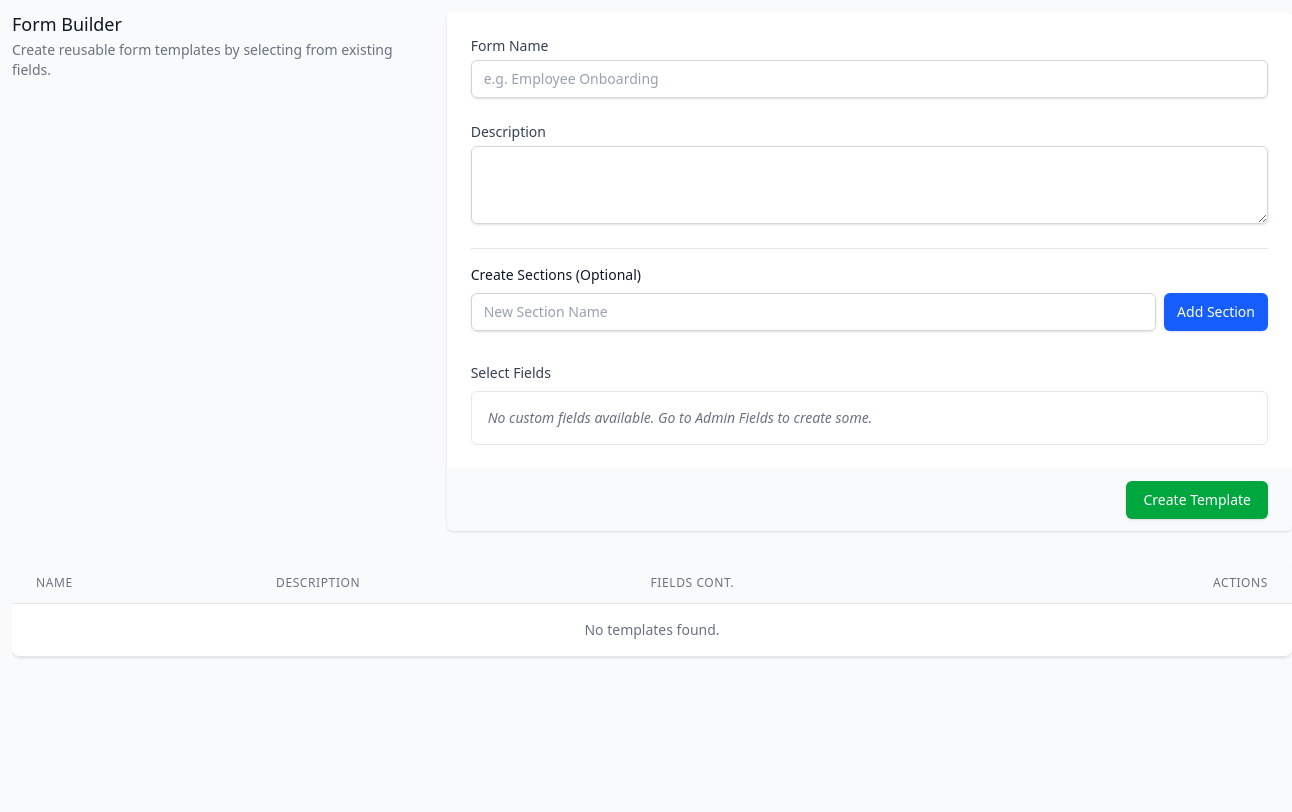
Test: FormBuilder.vue › adds a draft section when "Add Section" is clicked
# Type section name
In the field with placeholder "New Section Name": (813, 312) [471, 293, 1156, 331], type "Personal Info"
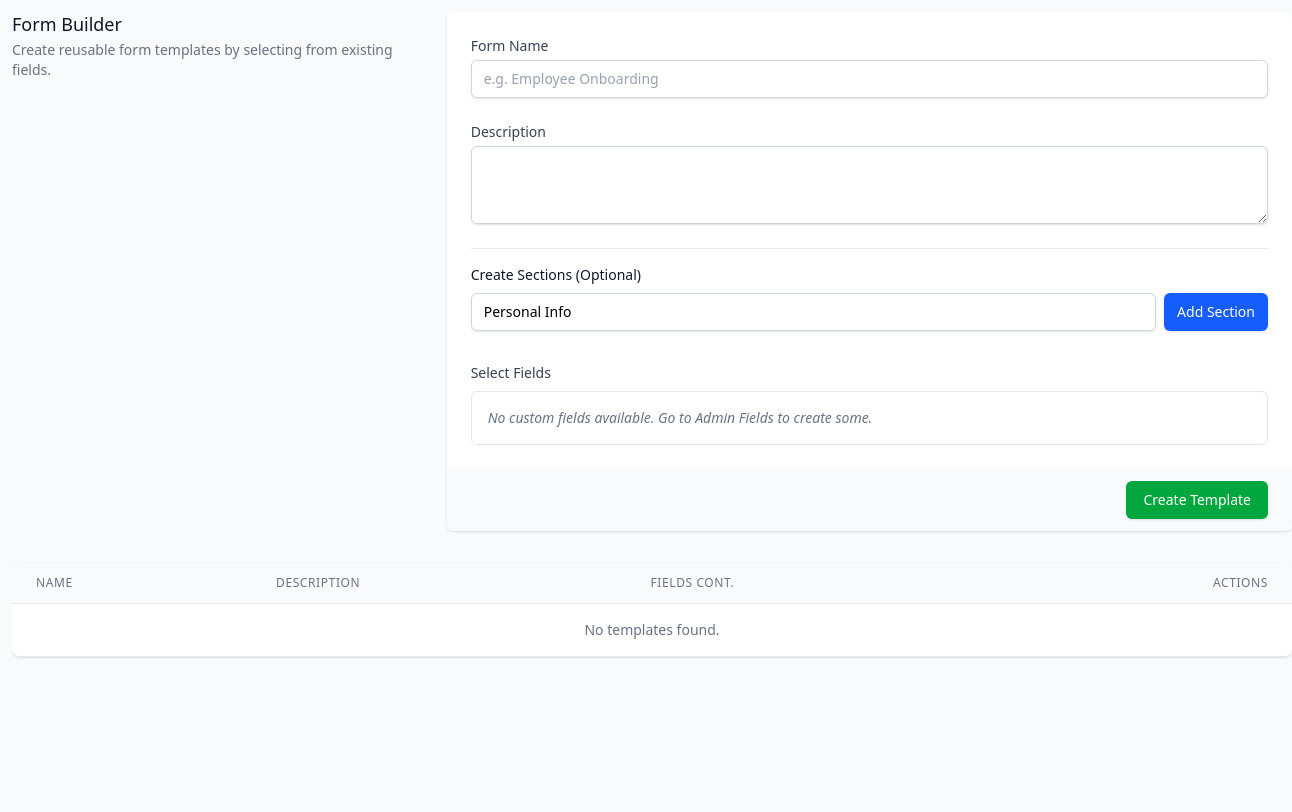
# Click Add
Click the button "Add Section": (1216, 312) [1164, 293, 1268, 331]
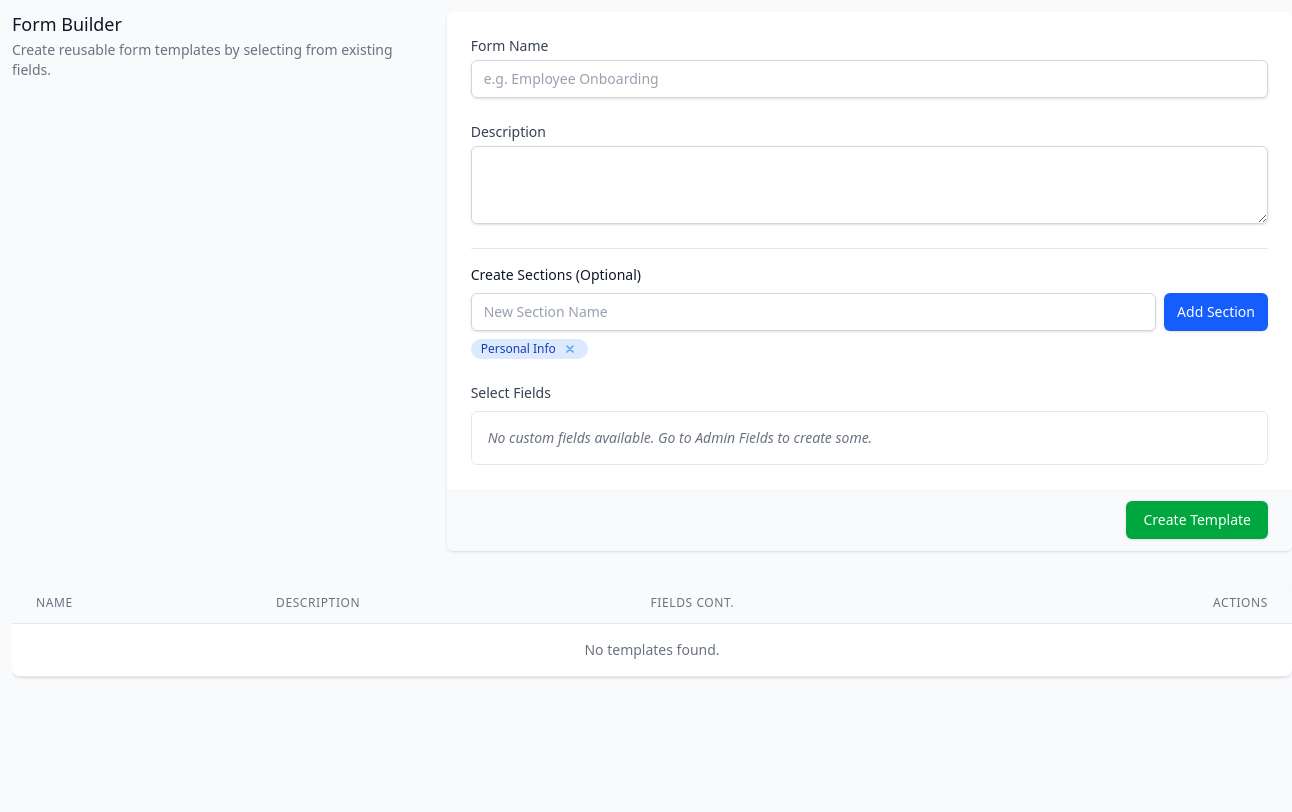
Result: the text "Personal Info" is shown at [471, 339, 588, 359]
